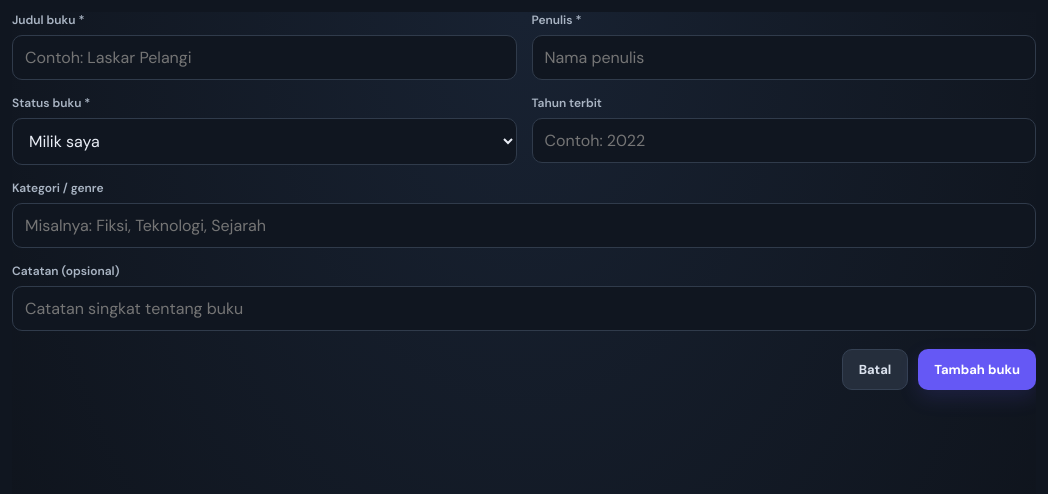
Test case: BookForm › menampilkan pesan validasi jika judul dan penulis kosong
Click the button "Tambah buku".
click(977, 370)  # box [918, 349, 1036, 390]
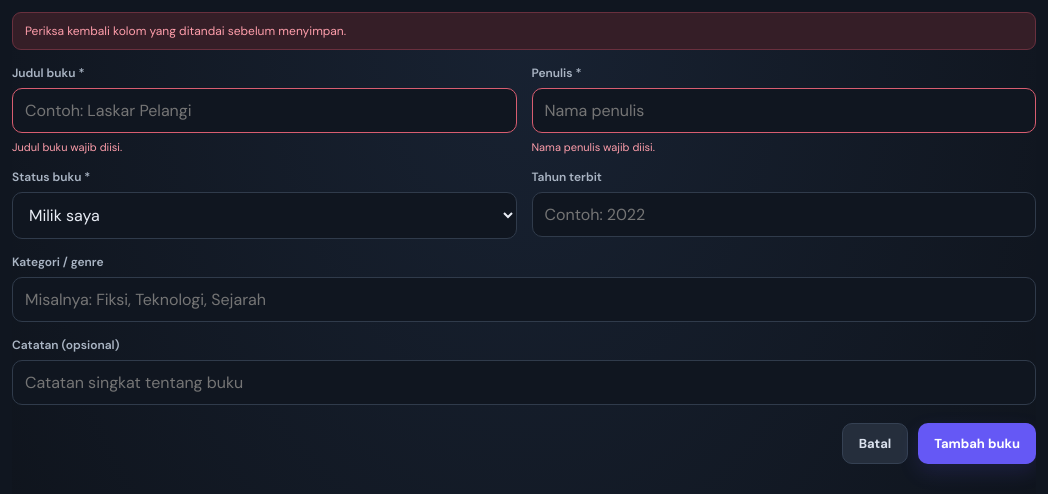
Expected: the text "Judul buku wajib diisi." is shown, [12, 140, 122, 154]
Expected: the text "Nama penulis wajib diisi." is shown, [532, 140, 655, 154]
